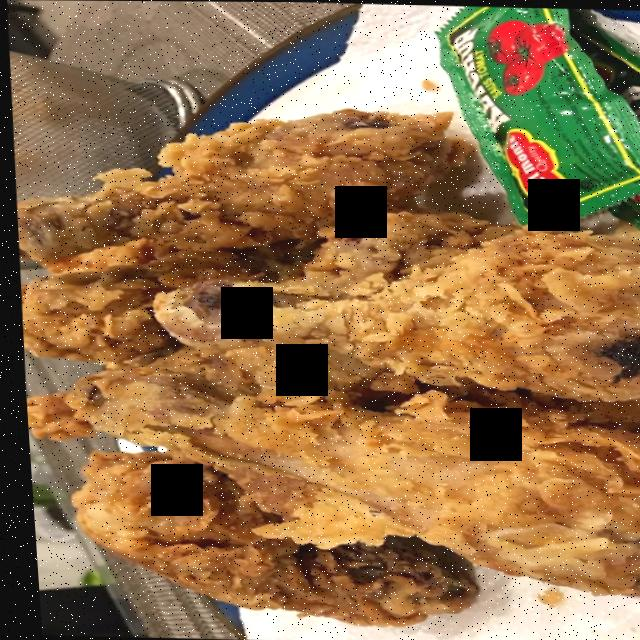Frango: (49, 365, 640, 598), (140, 221, 640, 401), (6, 100, 462, 269)
